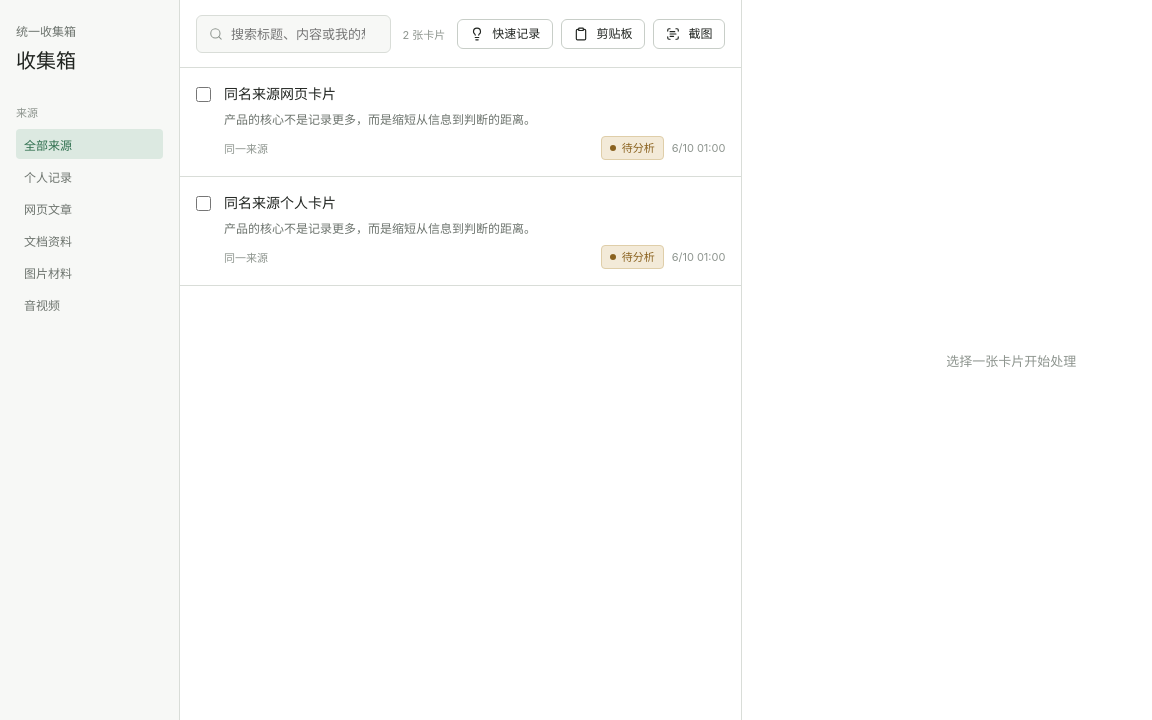
Test case: InboxPage › filters by source type when source names are identical
The width and height of the screenshot is (1152, 720).
Step 1. Click the button "网页文章" → (90,208), box [16,193,163,223]
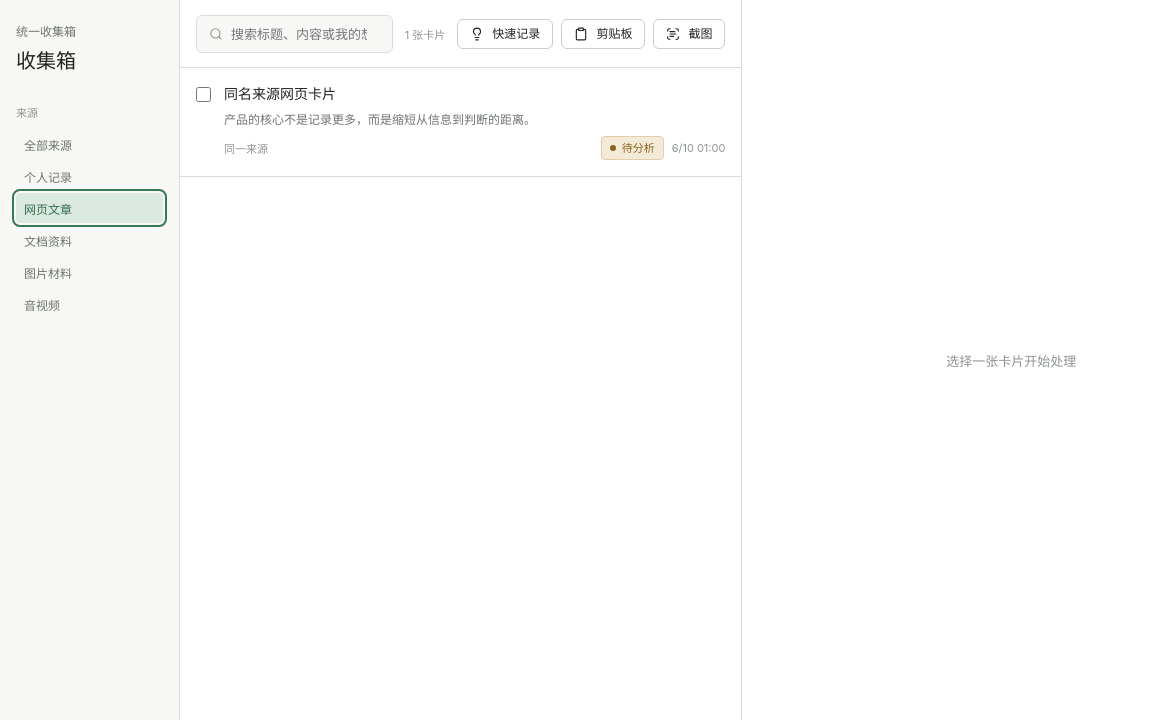
Expected: the text "同名来源网页卡片" is shown, [224,85,336,102]
Result: the button "同名来源个人卡片" is gone
